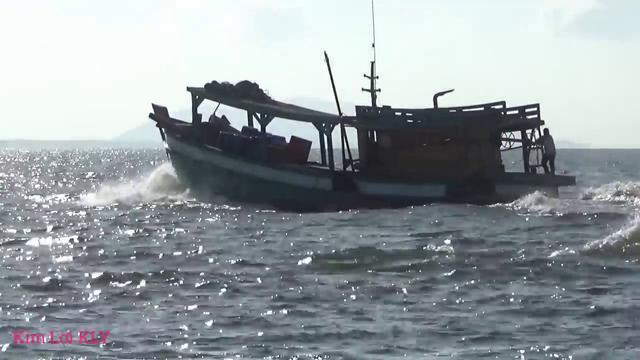Ship: (150, 62, 578, 208)
